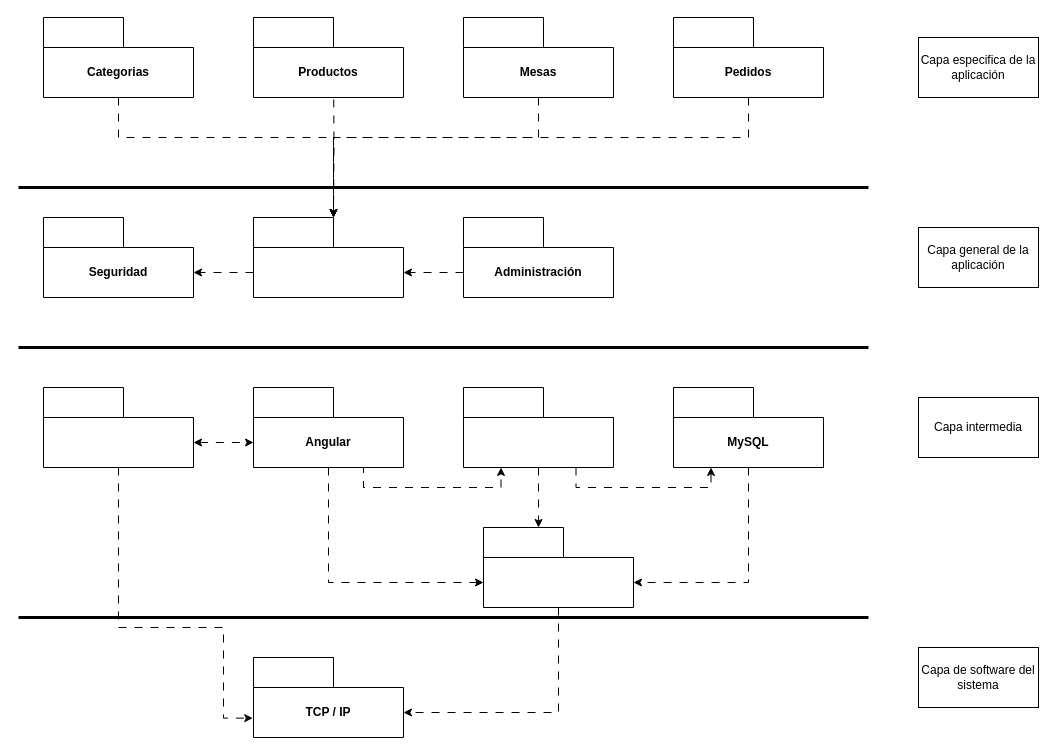
This 1056x755 diagram has some shape labels left out. Here are the shapes that lost their labels. From the top down, the centre of each, then its label:
(x=328, y=257): Usuario
(x=118, y=427): Navegador Web / App
(x=538, y=427): NodeJS
(x=558, y=567): Docker
